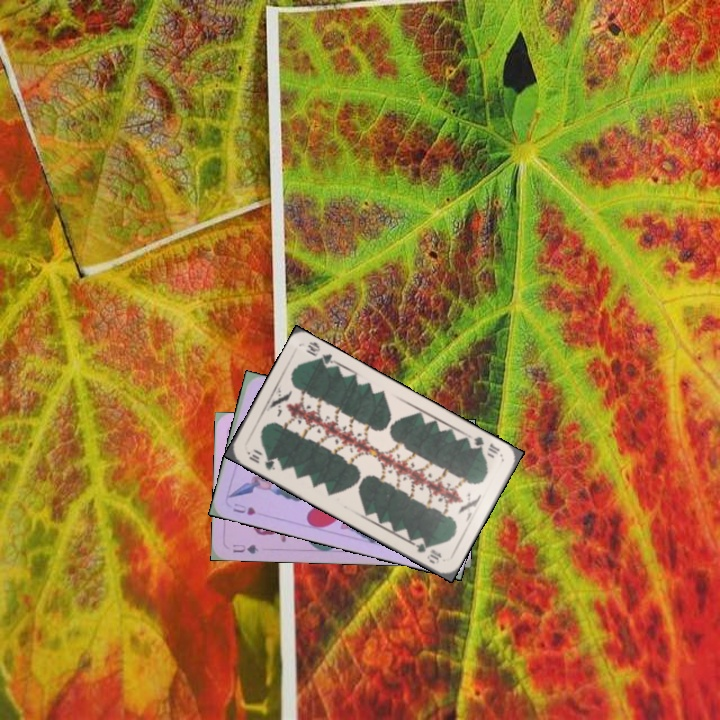G10: (243, 447, 278, 473), (469, 432, 502, 457)
GU: (229, 540, 261, 556)
HU: (229, 499, 259, 518)
